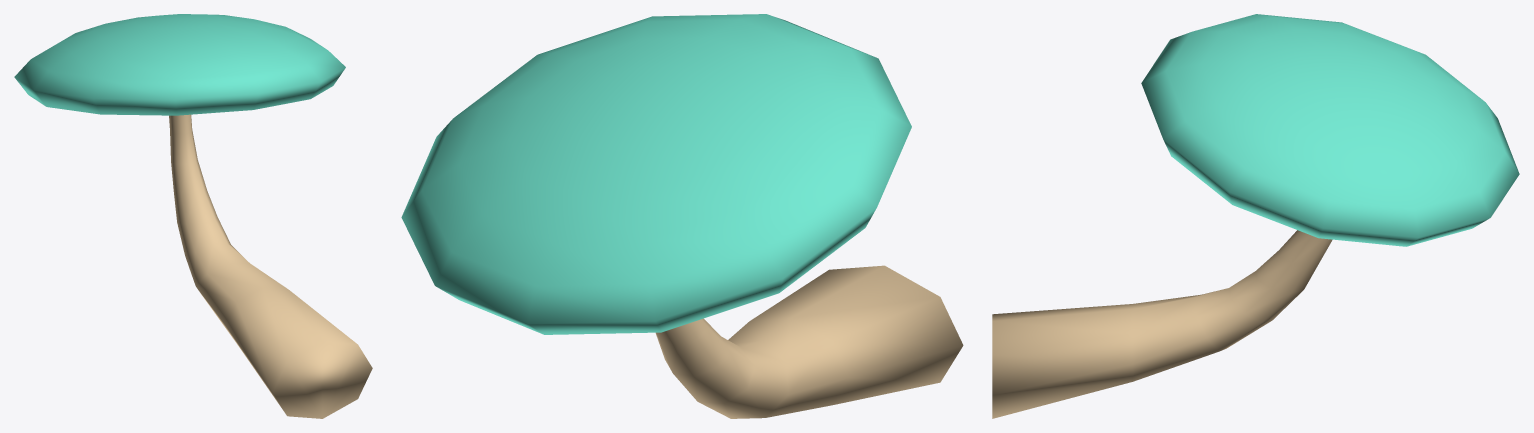
The model's file is ShroomWall_2.fbx.
3 views of the same model, side by side, from view 1: azimuth 30°, elevation 25°; view 2: azimuth 150°, elevation 25°; view 3: azimuth 270°, elevation 25° (orthographic). The views are drawn at different scales.
Visible parts, largest first — view 1: ShroomWall_2; view 2: ShroomWall_2; view 3: ShroomWall_2.
Boxes of the visible parts, bbox=[...] form: ShroomWall_2: bbox=[14, 14, 372, 418]; ShroomWall_2: bbox=[401, 14, 963, 418]; ShroomWall_2: bbox=[992, 14, 1519, 418].
Bounding box in the file's own units: 284 × 285 × 385.
